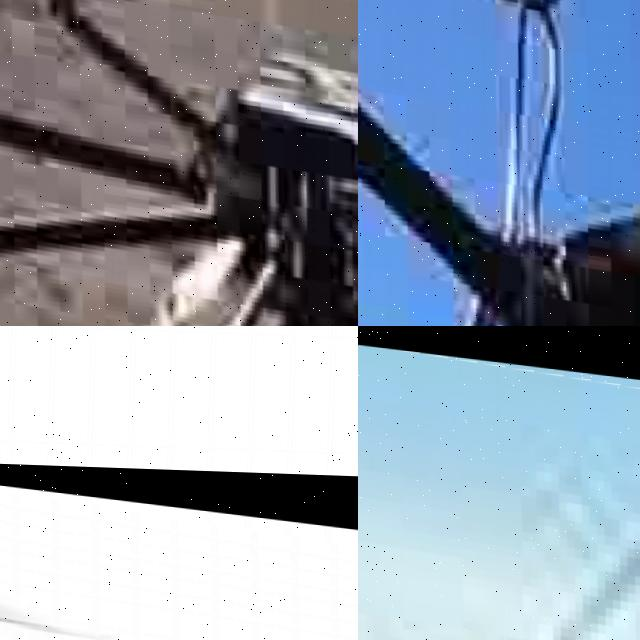0: (0, 0, 358, 326), (358, 0, 640, 326)
drone: (358, 326, 640, 640), (0, 455, 358, 640)
